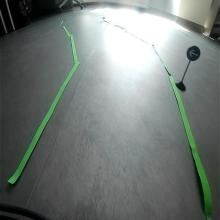left: (186, 44, 200, 62)
